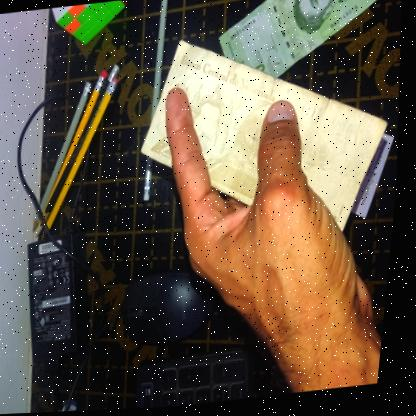fifty-front-vef: (211, 0, 383, 86)
five-back-vef: (128, 19, 405, 257)
